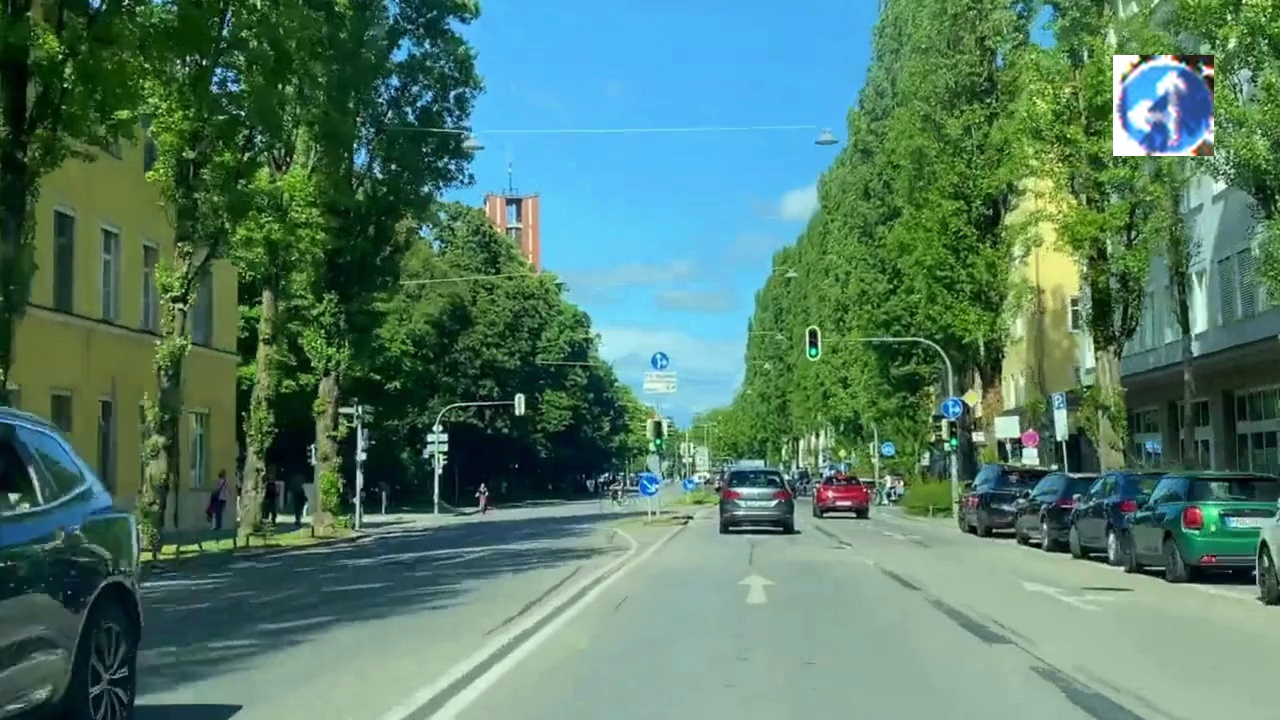Straight/left: (1113, 55, 1214, 156)
